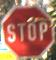Stop sign: (0, 0, 55, 59)
